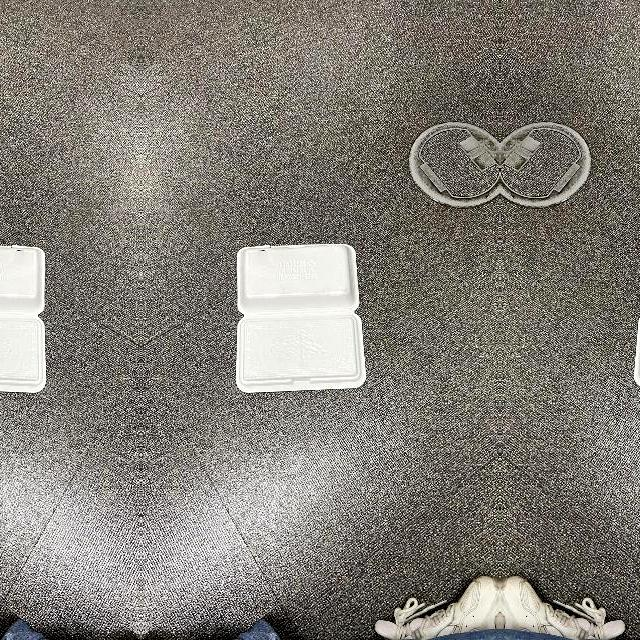Styrofoam: (235, 243, 368, 393), (235, 244, 365, 393), (0, 243, 45, 393), (0, 245, 45, 393)
